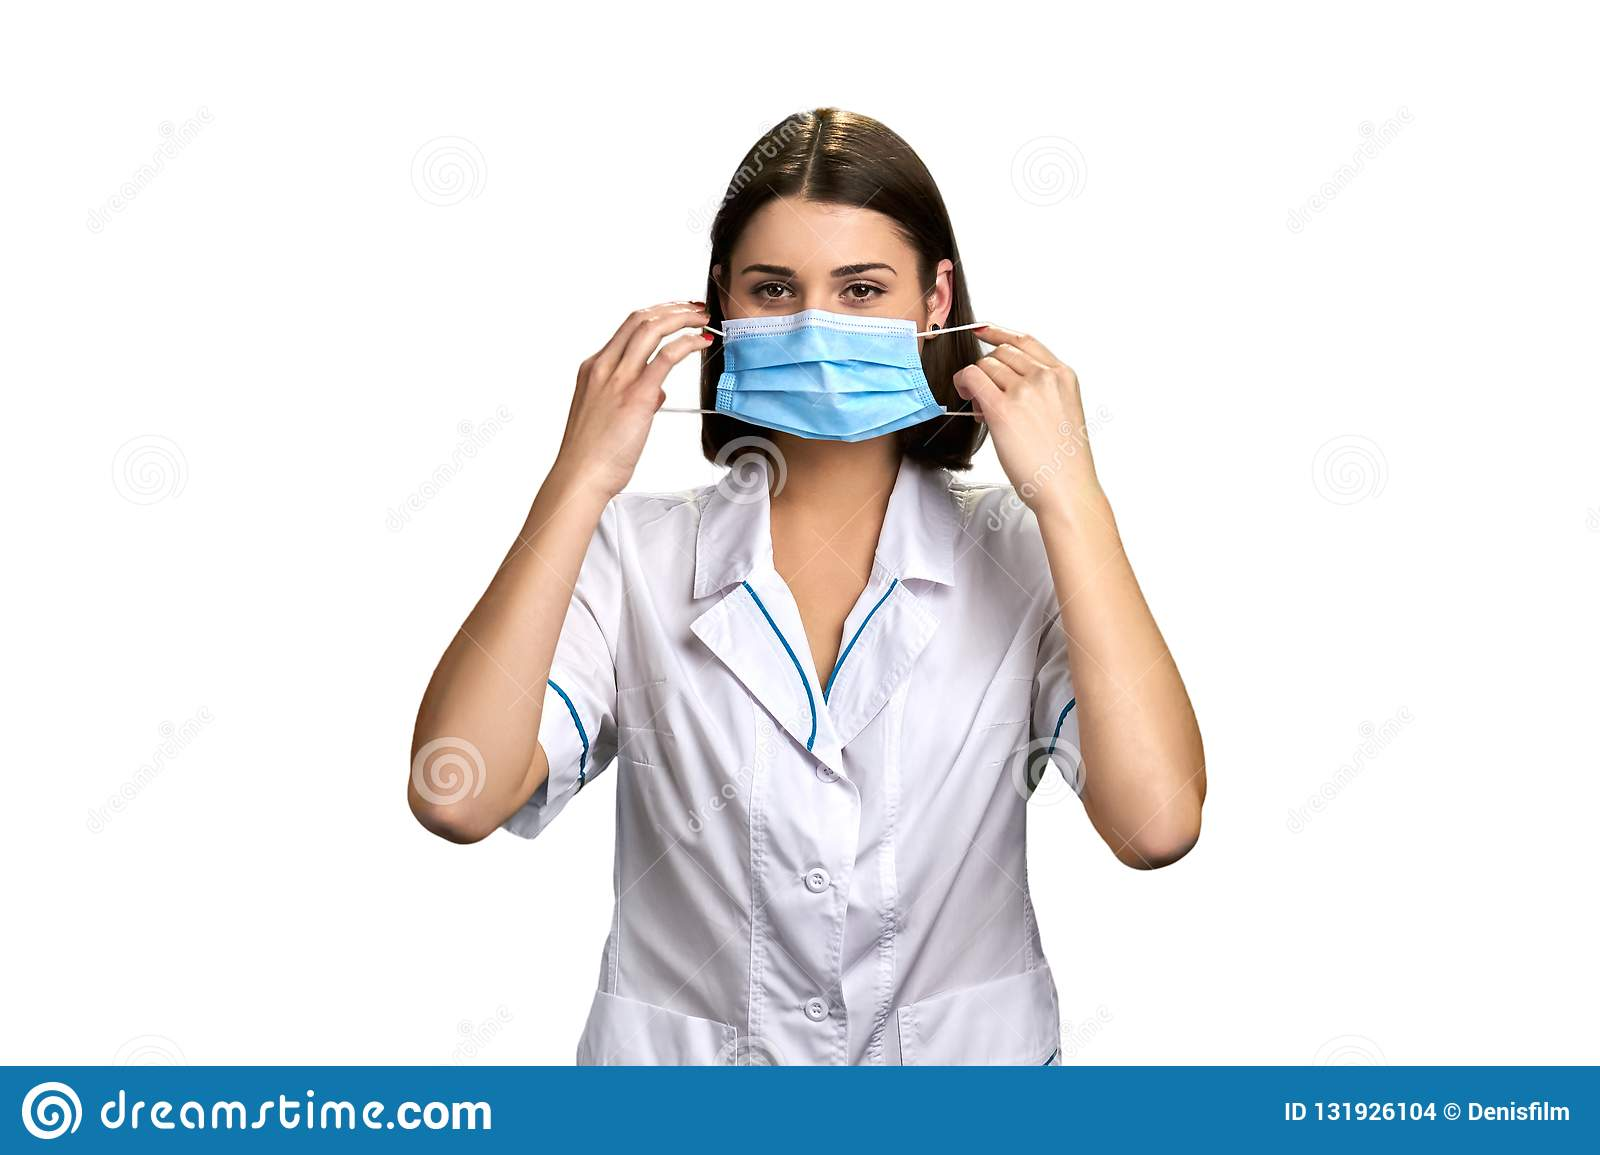mask: (714, 309, 947, 442)
